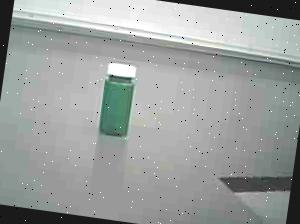Bottle C: (86, 52, 153, 148)
